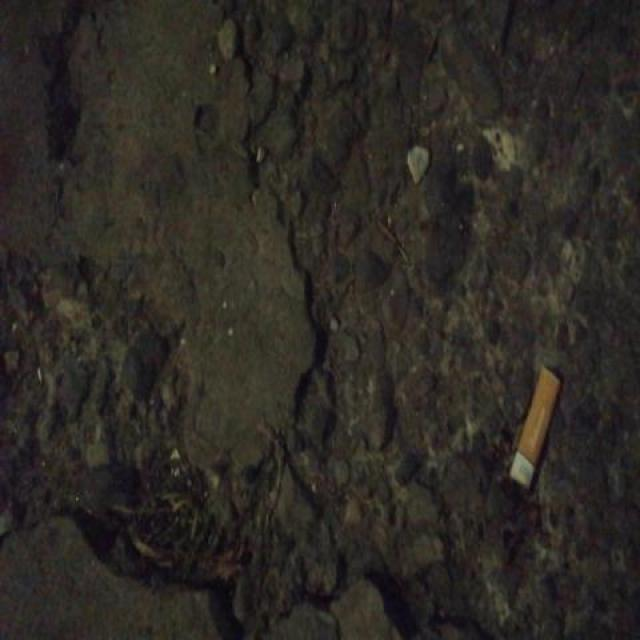non-organic waste: (502, 361, 566, 499)
